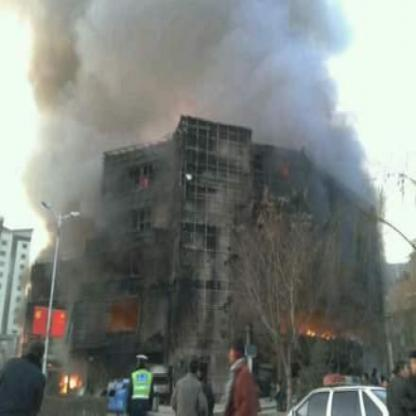smoke: (28, 1, 340, 73), (30, 73, 338, 116), (30, 118, 101, 209), (316, 118, 360, 166)
